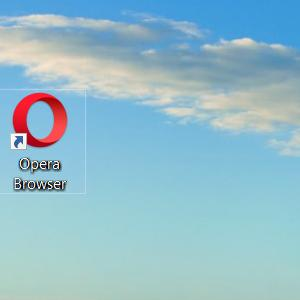opera: (10, 92, 68, 150)
